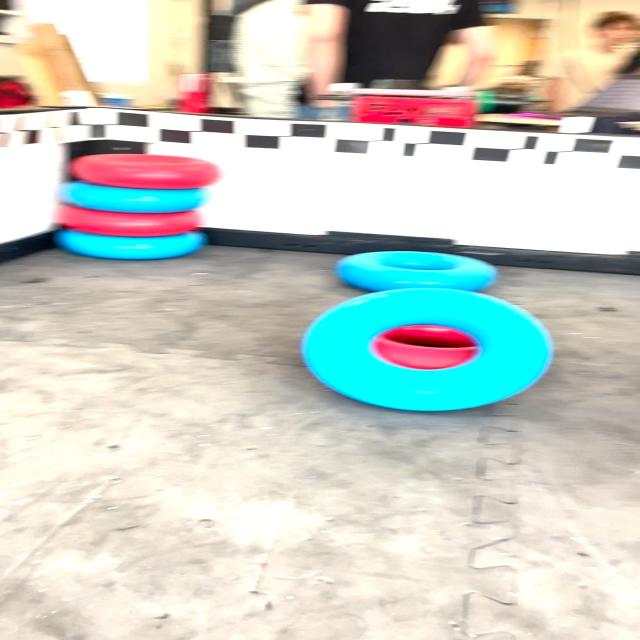Blue-Ring: (303, 290, 554, 412), (336, 251, 498, 291), (60, 181, 209, 214), (53, 230, 207, 260)
Red-Ring: (71, 154, 220, 189), (56, 205, 200, 238)
